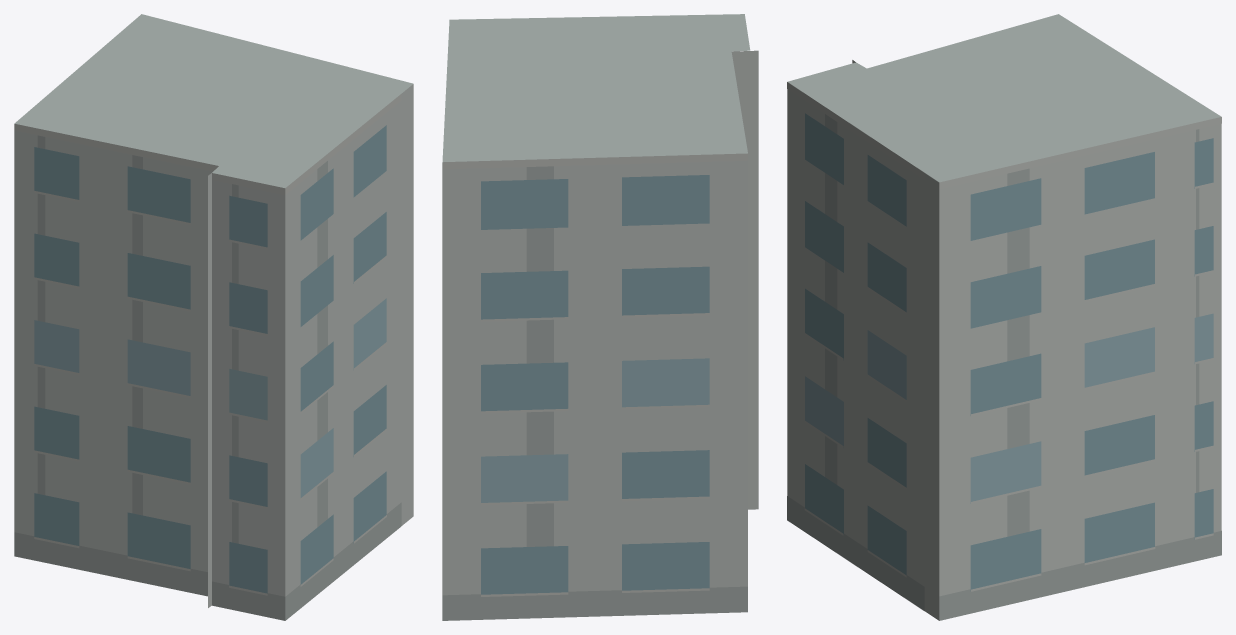
Rendered from survey-upis-32691806.glb.
The picture shows the model from 3 angles, left to right: view 1: azimuth 30°, elevation 25°; view 2: azimuth 150°, elevation 25°; view 3: azimuth 270°, elevation 25°; orthographic projection. The views are drawn at different scales.
Visible parts, largest first — view 1: survey-upis-32691806.tmp; view 2: survey-upis-32691806.tmp; view 3: survey-upis-32691806.tmp.
Part boxes in pixels (x1,y1,x2,y2): survey-upis-32691806.tmp: [14, 14, 413, 620]; survey-upis-32691806.tmp: [442, 14, 758, 620]; survey-upis-32691806.tmp: [787, 14, 1221, 620].
Bounding box in the file's own units: 12.57 × 15.25 × 13.71.
